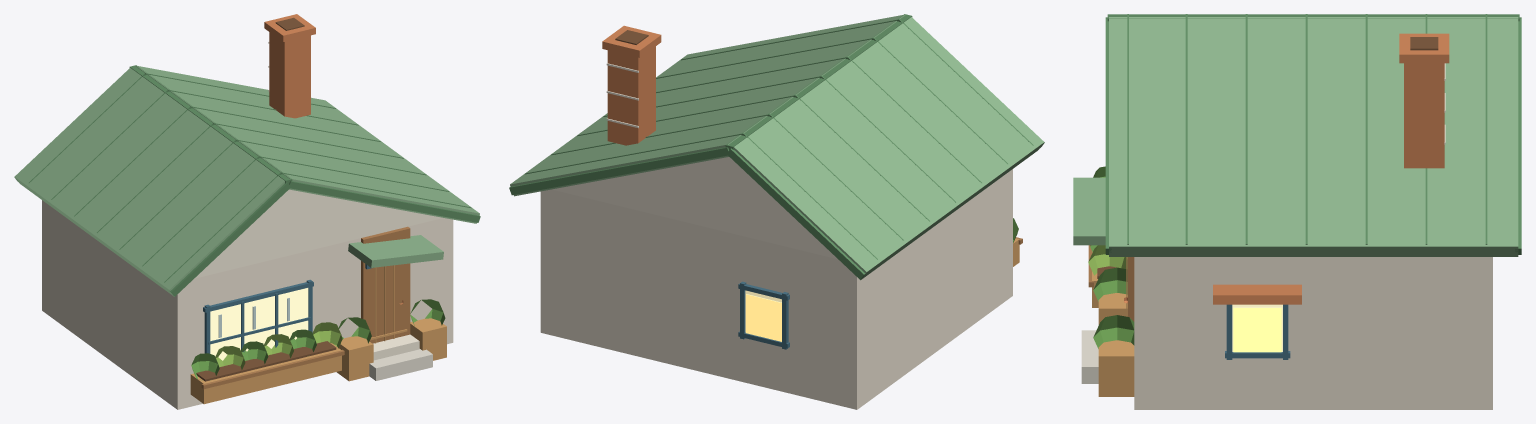
The model's file is house-l01.glb.
3 renders of one model, left to right at view 1: azimuth 30°, elevation 25°; view 2: azimuth 150°, elevation 25°; view 3: azimuth 270°, elevation 25°, orthographic. The views are drawn at different scales.
Parts seen in each view (by area): view 1: Residential_L01; view 2: Residential_L01; view 3: Residential_L01.
Boxes of the visible parts, x1,y1,x2,y2 form: Residential_L01: [14, 14, 480, 409]; Residential_L01: [509, 14, 1044, 409]; Residential_L01: [1073, 14, 1521, 409].
Size of the model in its own units: 6.15 by 4.71 by 5.76.
